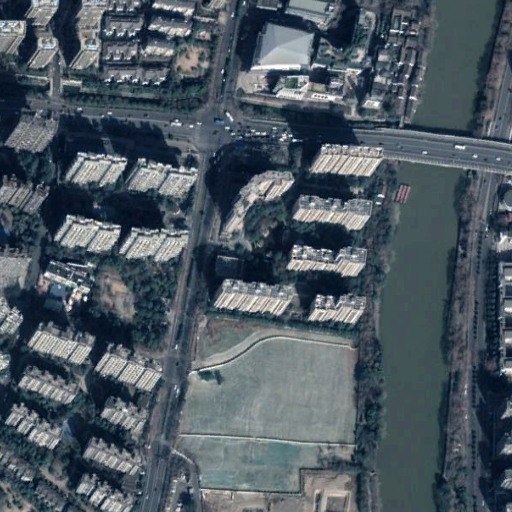cw: (167, 312, 361, 495)
